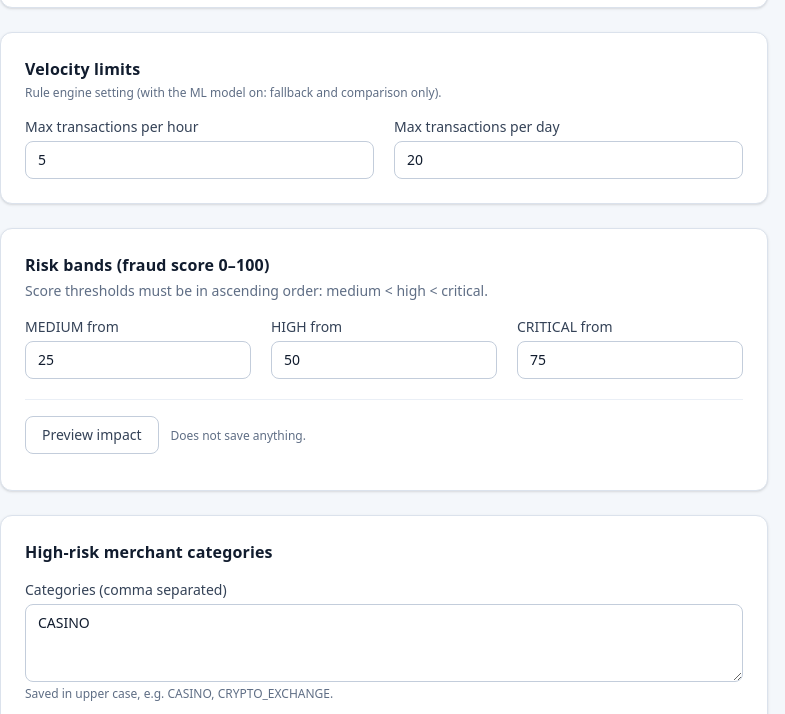
Test case: B-07 threshold preview › posts only the three bands, shows the comparison and the note, never saves
(page scrolled)
Expected: the number field labelled "MEDIUM from" is shown, [25, 341, 251, 379]
Replace the text in the number field labelled "HIGH from" with "40" at (384, 360), box [271, 341, 497, 379]
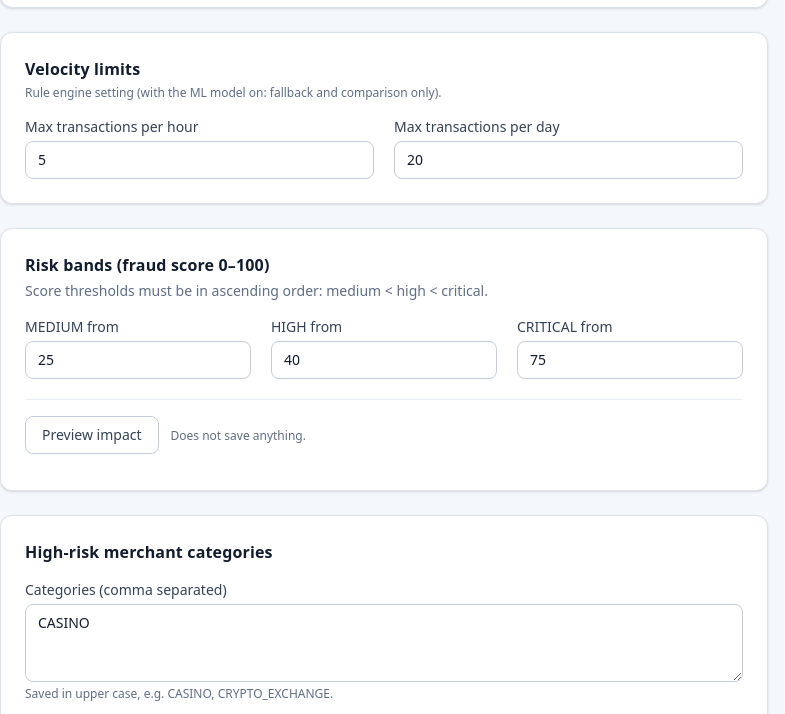
Click the button "Preview impact" at (92, 435), box [25, 416, 158, 454]
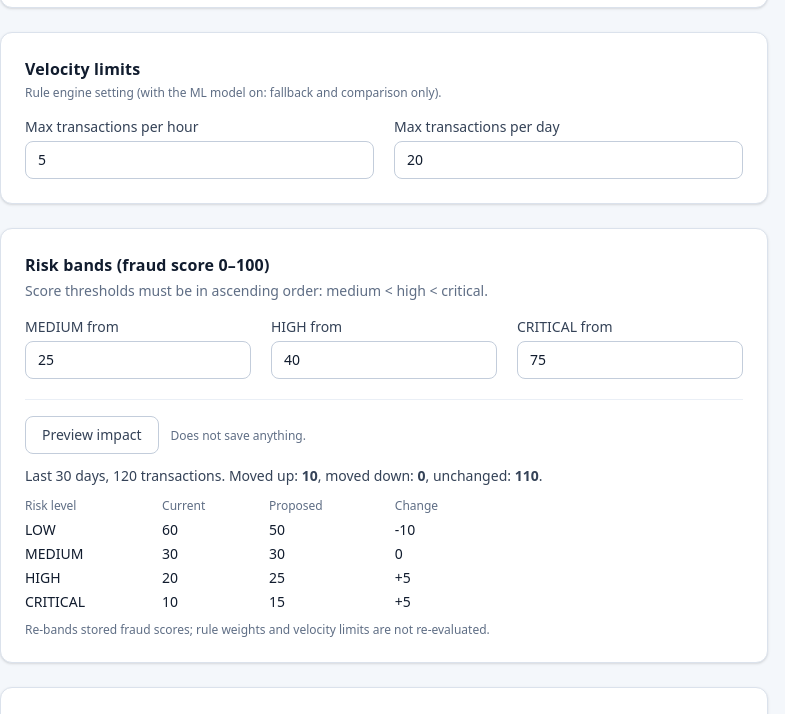
Expected: the number of rows is 5, [25, 494, 473, 518]; [25, 518, 473, 542]; [25, 542, 473, 566]; [25, 566, 473, 590]; [25, 590, 473, 614]
Expected: the cells read "20", "25", "+5", in this order, [162, 566, 269, 590]; [269, 566, 395, 590]; [395, 566, 473, 590]
Expected: the cells read "60", "50", "-10", in this order, [162, 518, 269, 542]; [269, 518, 395, 542]; [395, 518, 473, 542]
